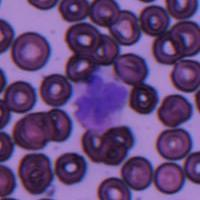N: (74, 71, 130, 133)
